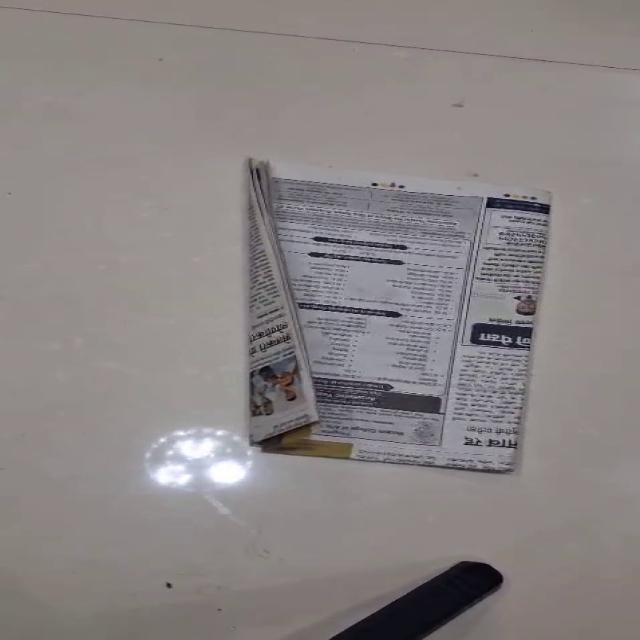paper: (245, 158, 553, 474)
